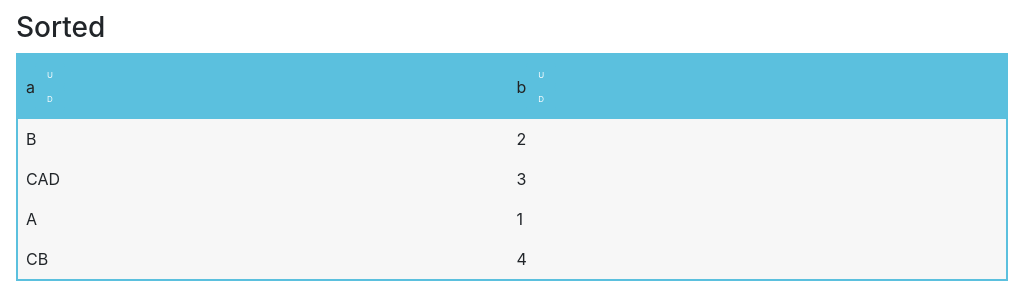
Scenario: Can order by non-numerical columns (ascending)
Click the 1st button with class "sortAscending". click: (50, 75)
box: [35, 63, 65, 87]
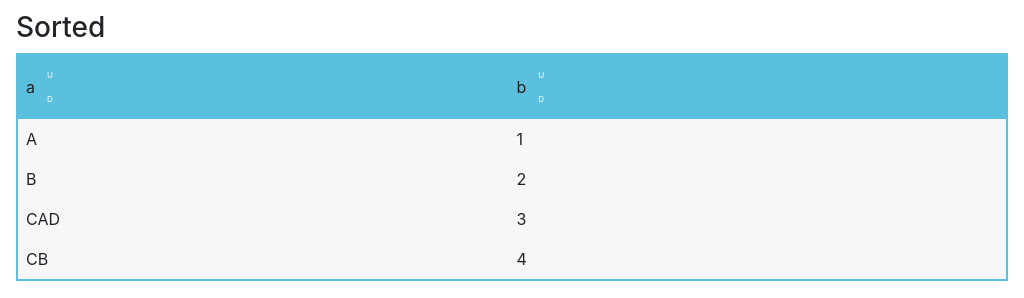
Expected: the cell "4" is shown, [508, 239, 1007, 280]
Now the cell "1" is shown, box [508, 119, 1007, 159]
Now the cell "A" is shown, box [17, 119, 508, 159]
